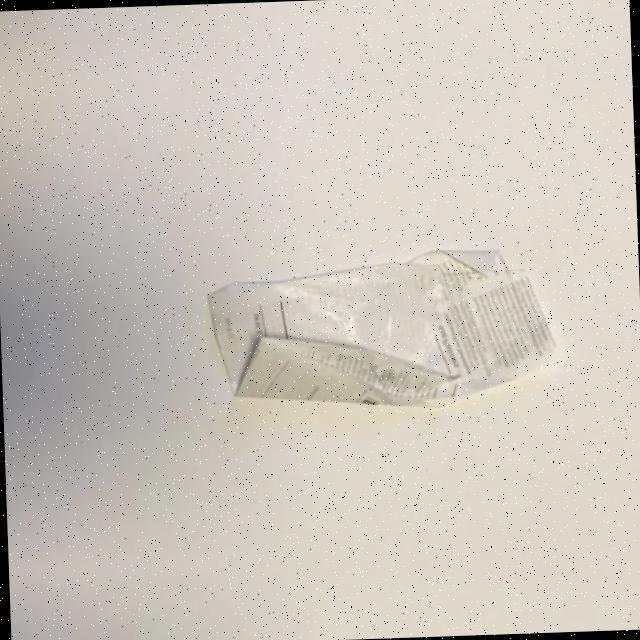paper: (206, 245, 562, 410)
